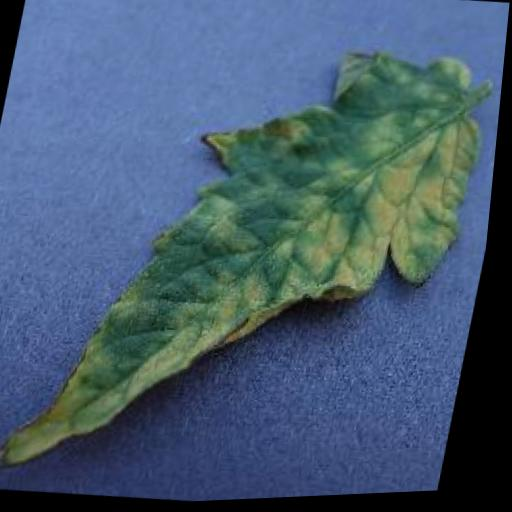Leaf Mold: (0, 11, 503, 511)
